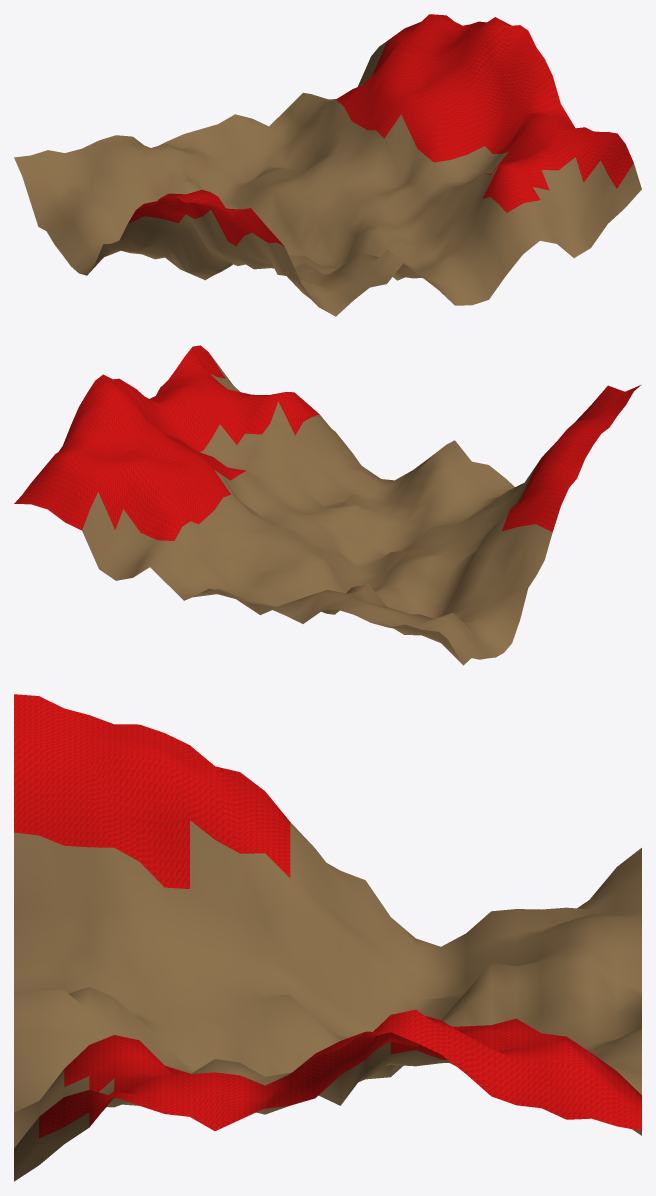
File: kazan.FBX
The picture shows the model from 3 angles, top to bottom: view 1: azimuth 30°, elevation 25°; view 2: azimuth 150°, elevation 25°; view 3: azimuth 270°, elevation 25°; orthographic projection. The views are drawn at different scales.
Parts seen in each view (by area): view 1: Plane001; view 2: Plane001; view 3: Plane001.
Boxes of the visible parts, <box> form: Plane001: <box>14,14,641,316</box>; Plane001: <box>14,345,641,665</box>; Plane001: <box>14,694,641,1181</box>.
Bounding box in the file's own units: 170 × 70 × 140.
